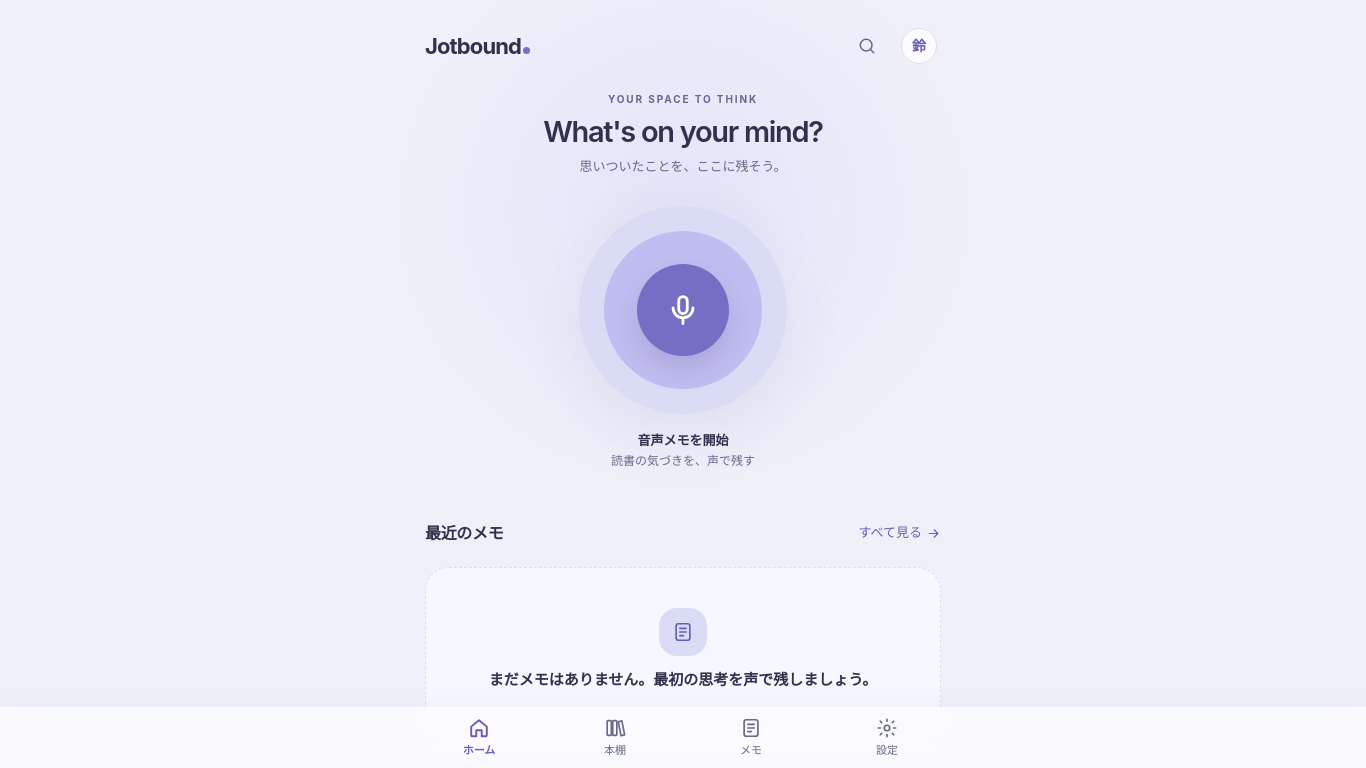
Scenario: 録音画面 › MediaRecorder がない端末では録音を開始せず、手入力へ誘導する
Click the button named "音声メモを開始".
click(683, 310)  # box top-left (637, 264), bottom-right (729, 356)
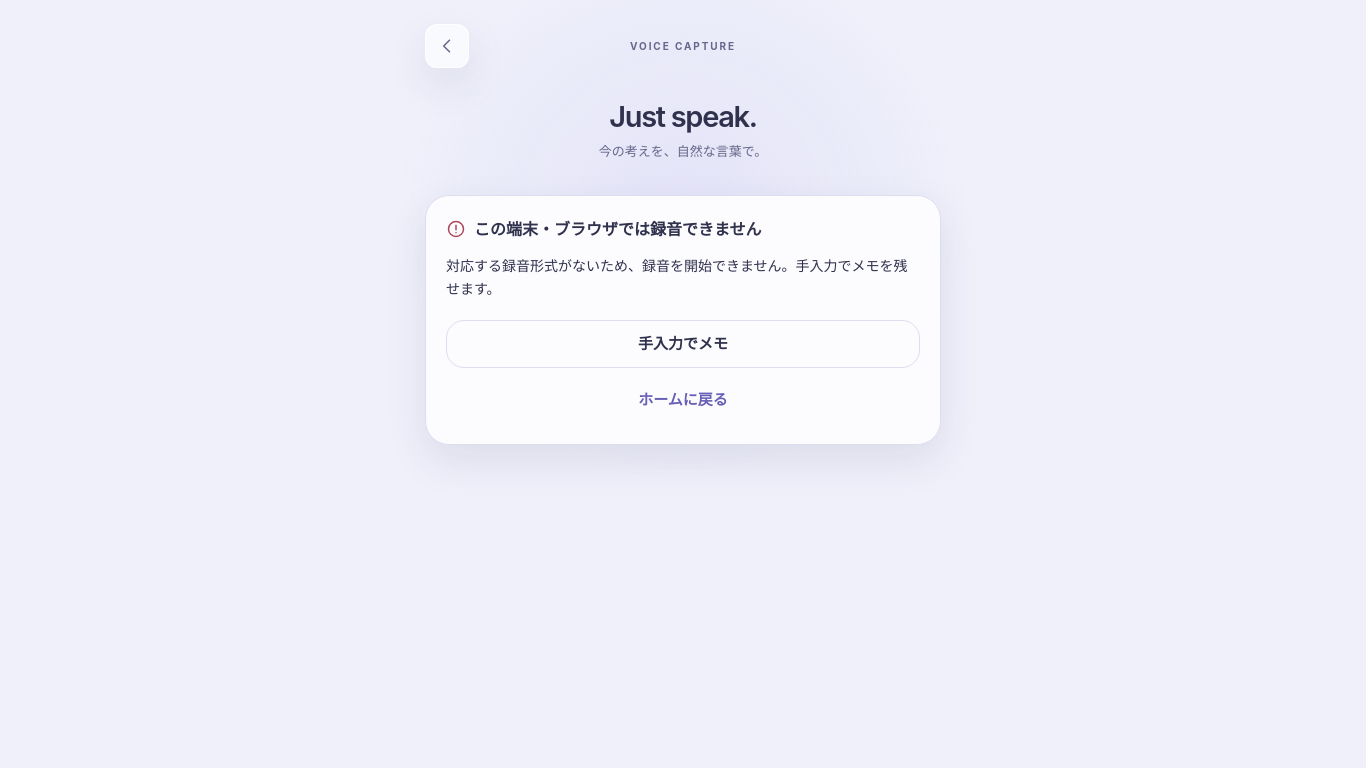
Now the text "この端末・ブラウザでは録音できません" is shown, box top-left (446, 219), bottom-right (762, 239)
